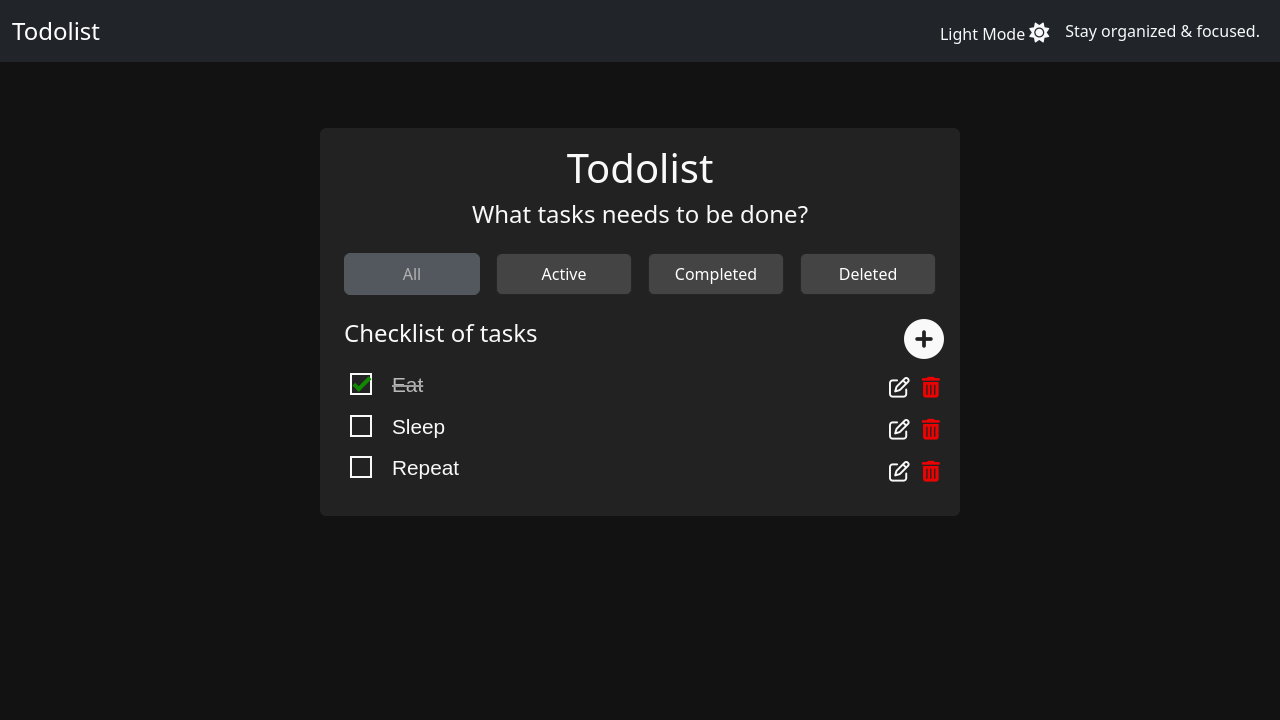
Test: todolist main › should filter active tasks
Click the button "Active" at (564, 274), box [496,253,632,295]
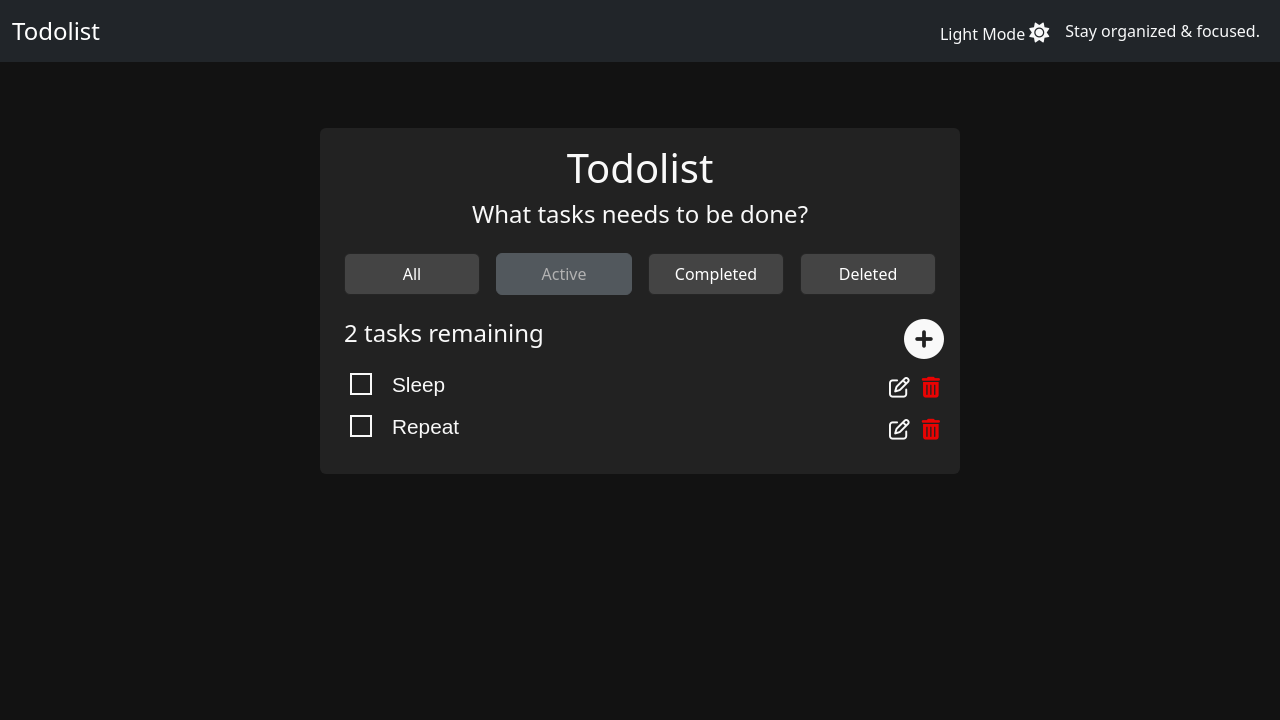
Expected: the checkbox labelled "Sleep" is shown, [392,373,445,396]
Expected: the number of checkboxes is 2, [392,373,445,396]; [392,415,459,438]
